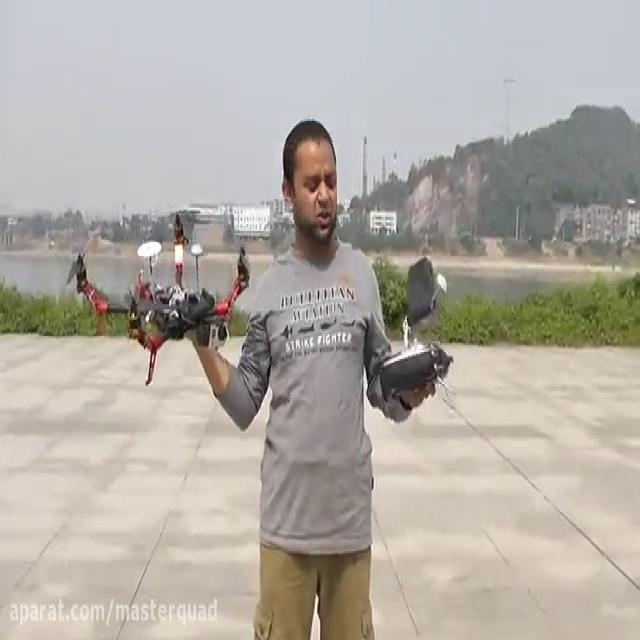drone: (62, 205, 257, 391)
